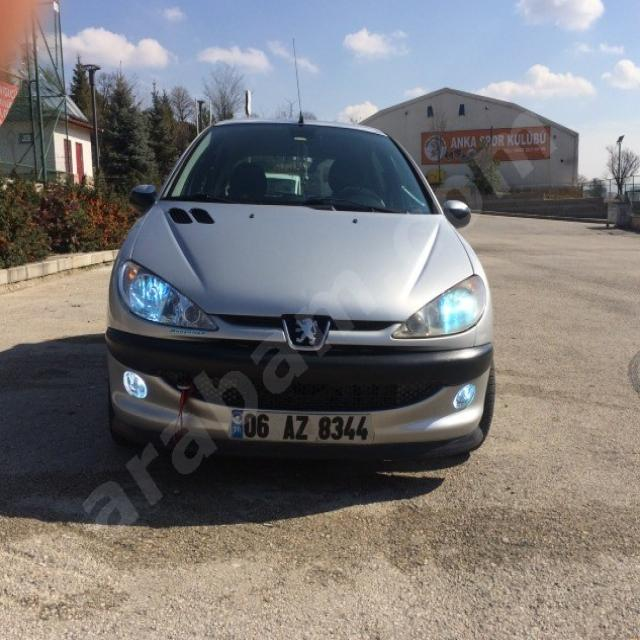license_plate: (231, 409, 374, 444)
